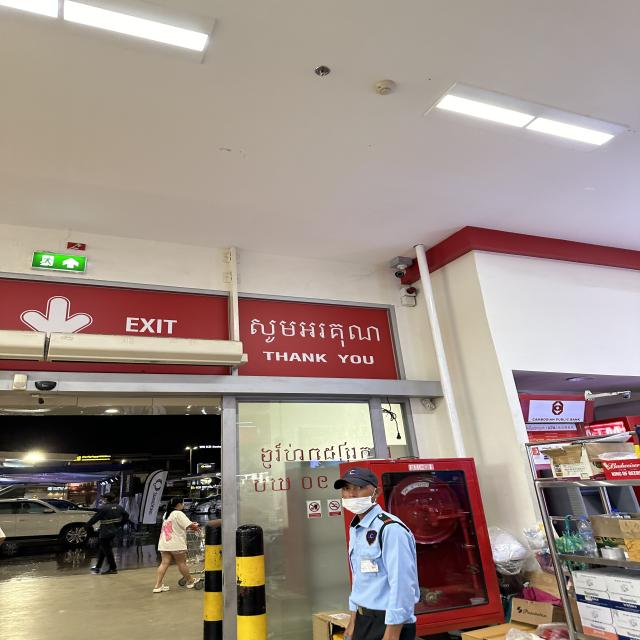Yolov11_80vkh: (245, 312, 383, 348)
